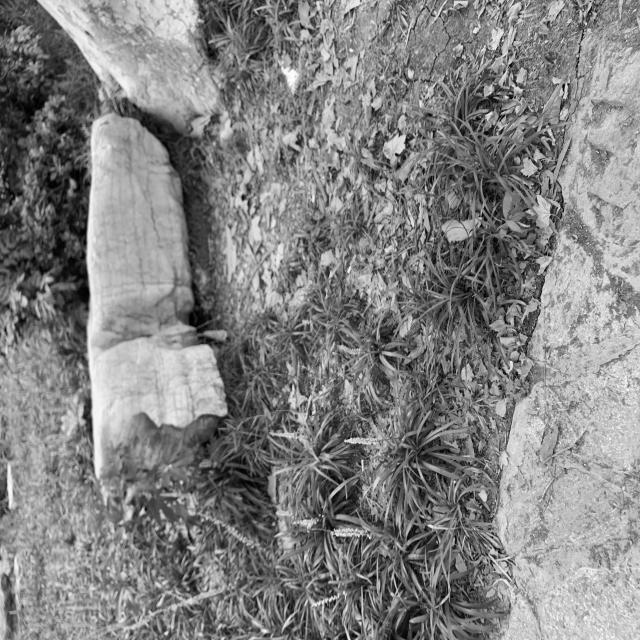Stone: (88, 113, 228, 476)
